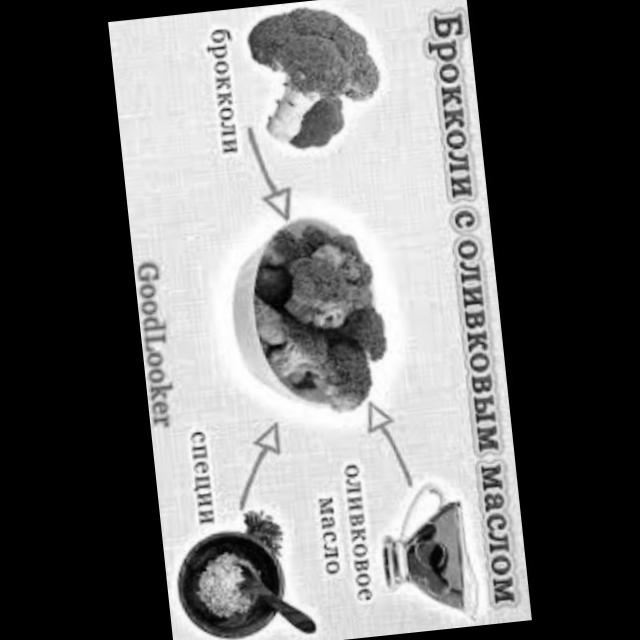broccoli: (255, 214, 388, 426), (229, 0, 389, 166)
